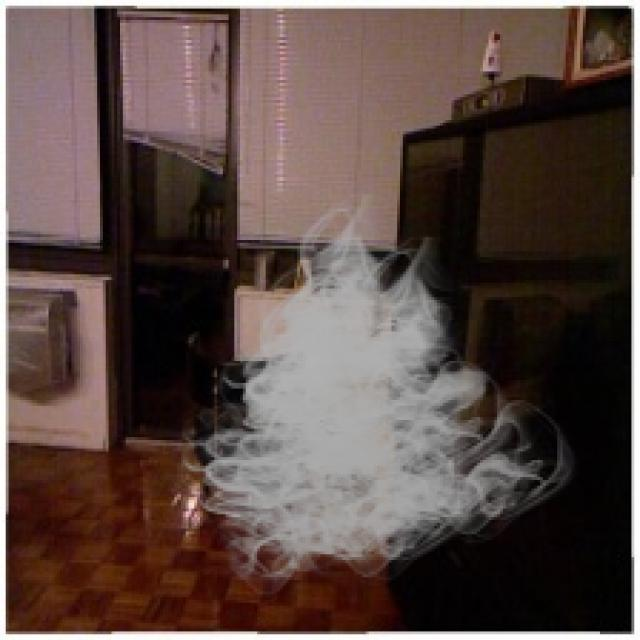smoke: (166, 194, 580, 606)
